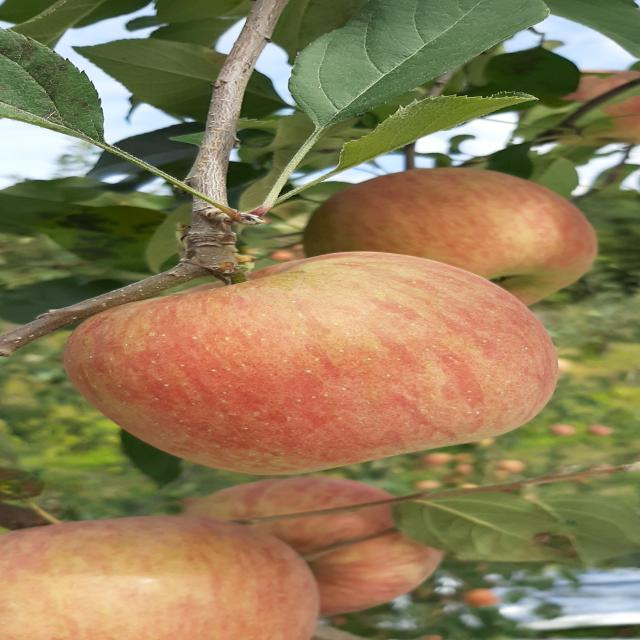fresh: (53, 244, 573, 478)
